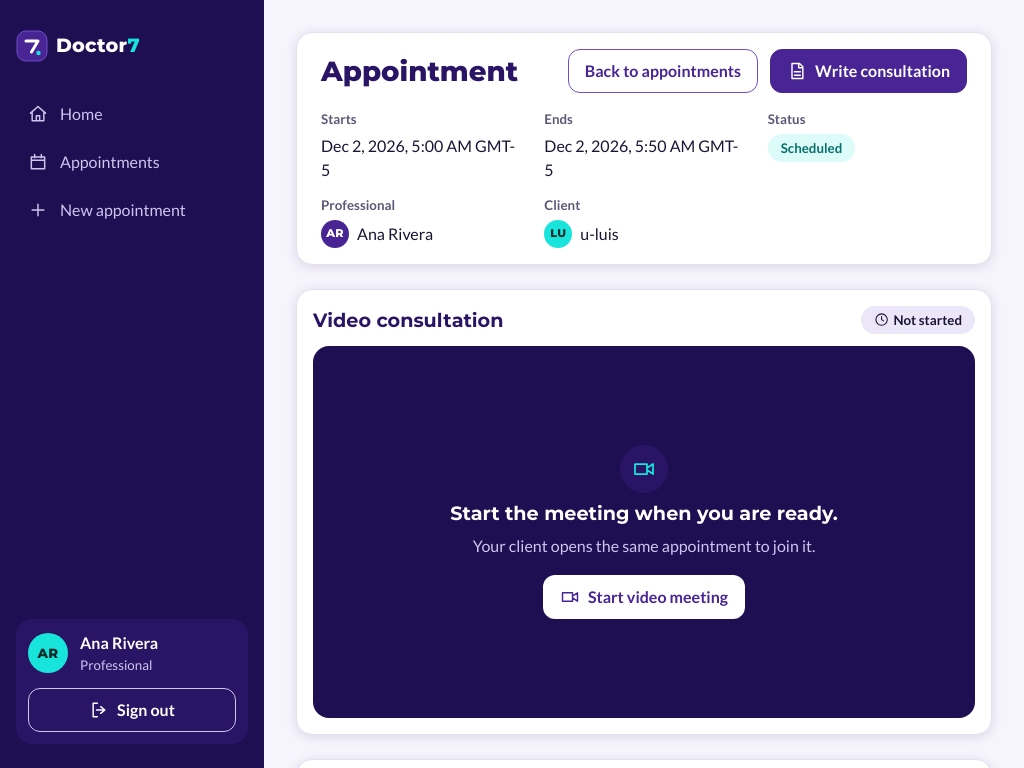
it: Video › marks the start button busy while the meeting is created
Click the button "Start video meeting": (644, 597) [543,575,745,619]
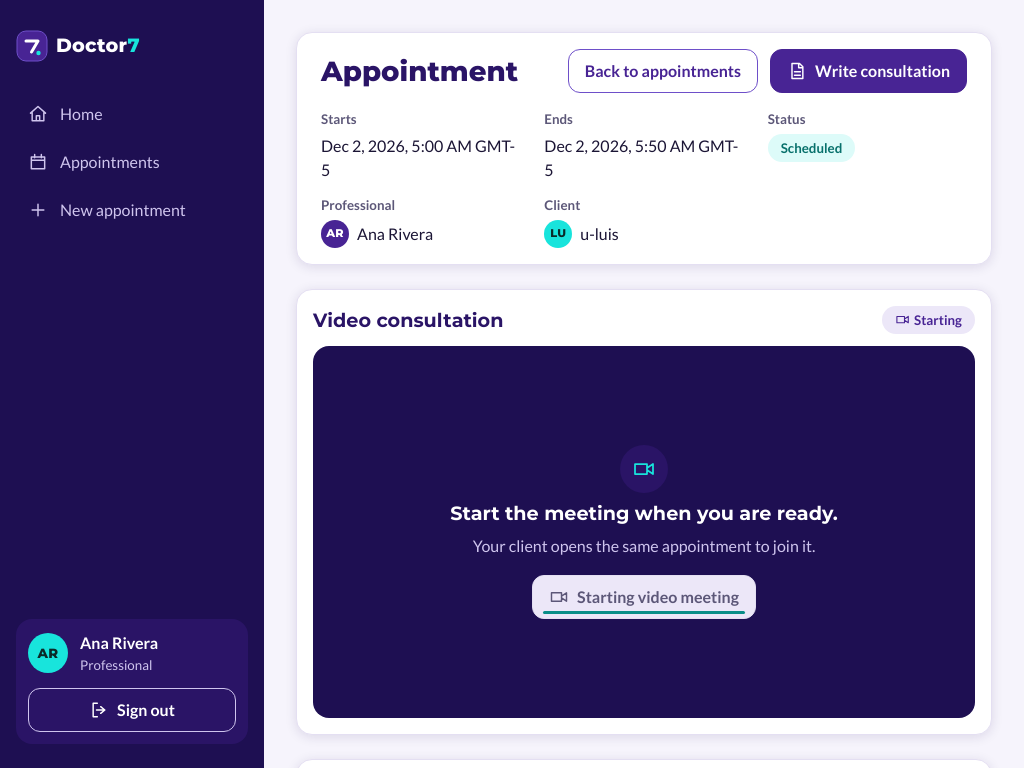
expect the button "Starting video meeting" is disabled: met, box [532,575,756,619]
